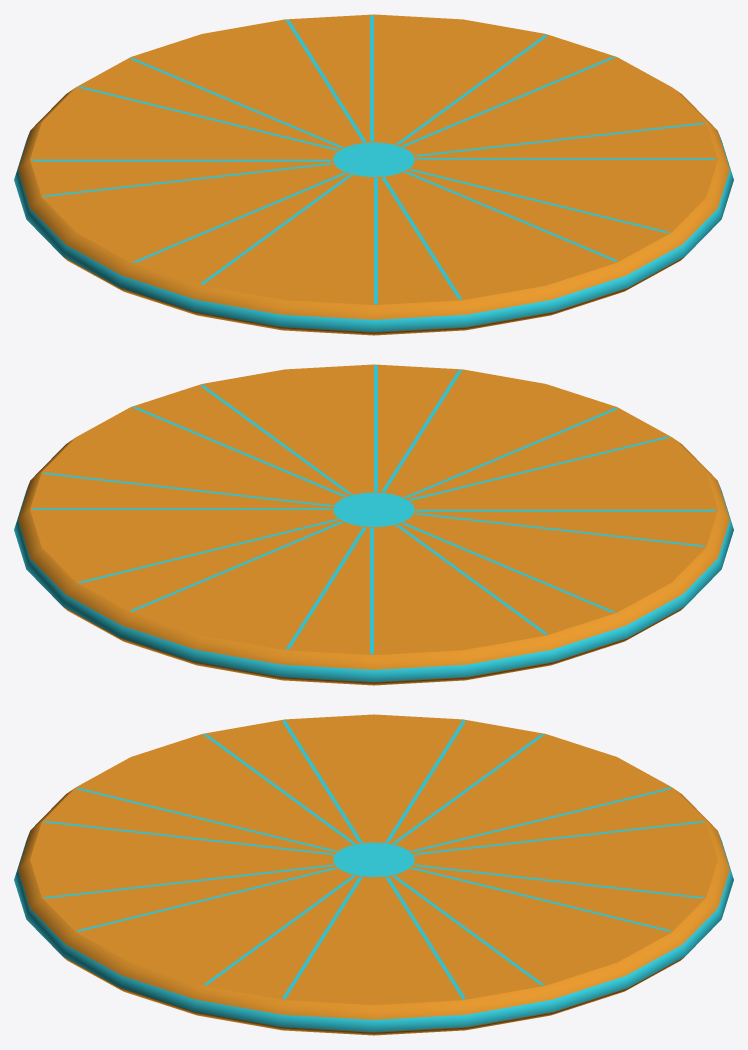
Rendered from CarnivalFrisbee.fbx.
3 renders of one model, top to bottom at view 1: azimuth 30°, elevation 25°; view 2: azimuth 150°, elevation 25°; view 3: azimuth 270°, elevation 25°, orthographic.
Visible parts, largest first — view 1: Frisbee; view 2: Frisbee; view 3: Frisbee.
Part boxes in pixels (<box>): Frisbee: <box>14,14,733,335</box>; Frisbee: <box>14,364,733,685</box>; Frisbee: <box>14,714,733,1035</box>.
Size of the model in its own units: 114 by 114 by 4.55.
